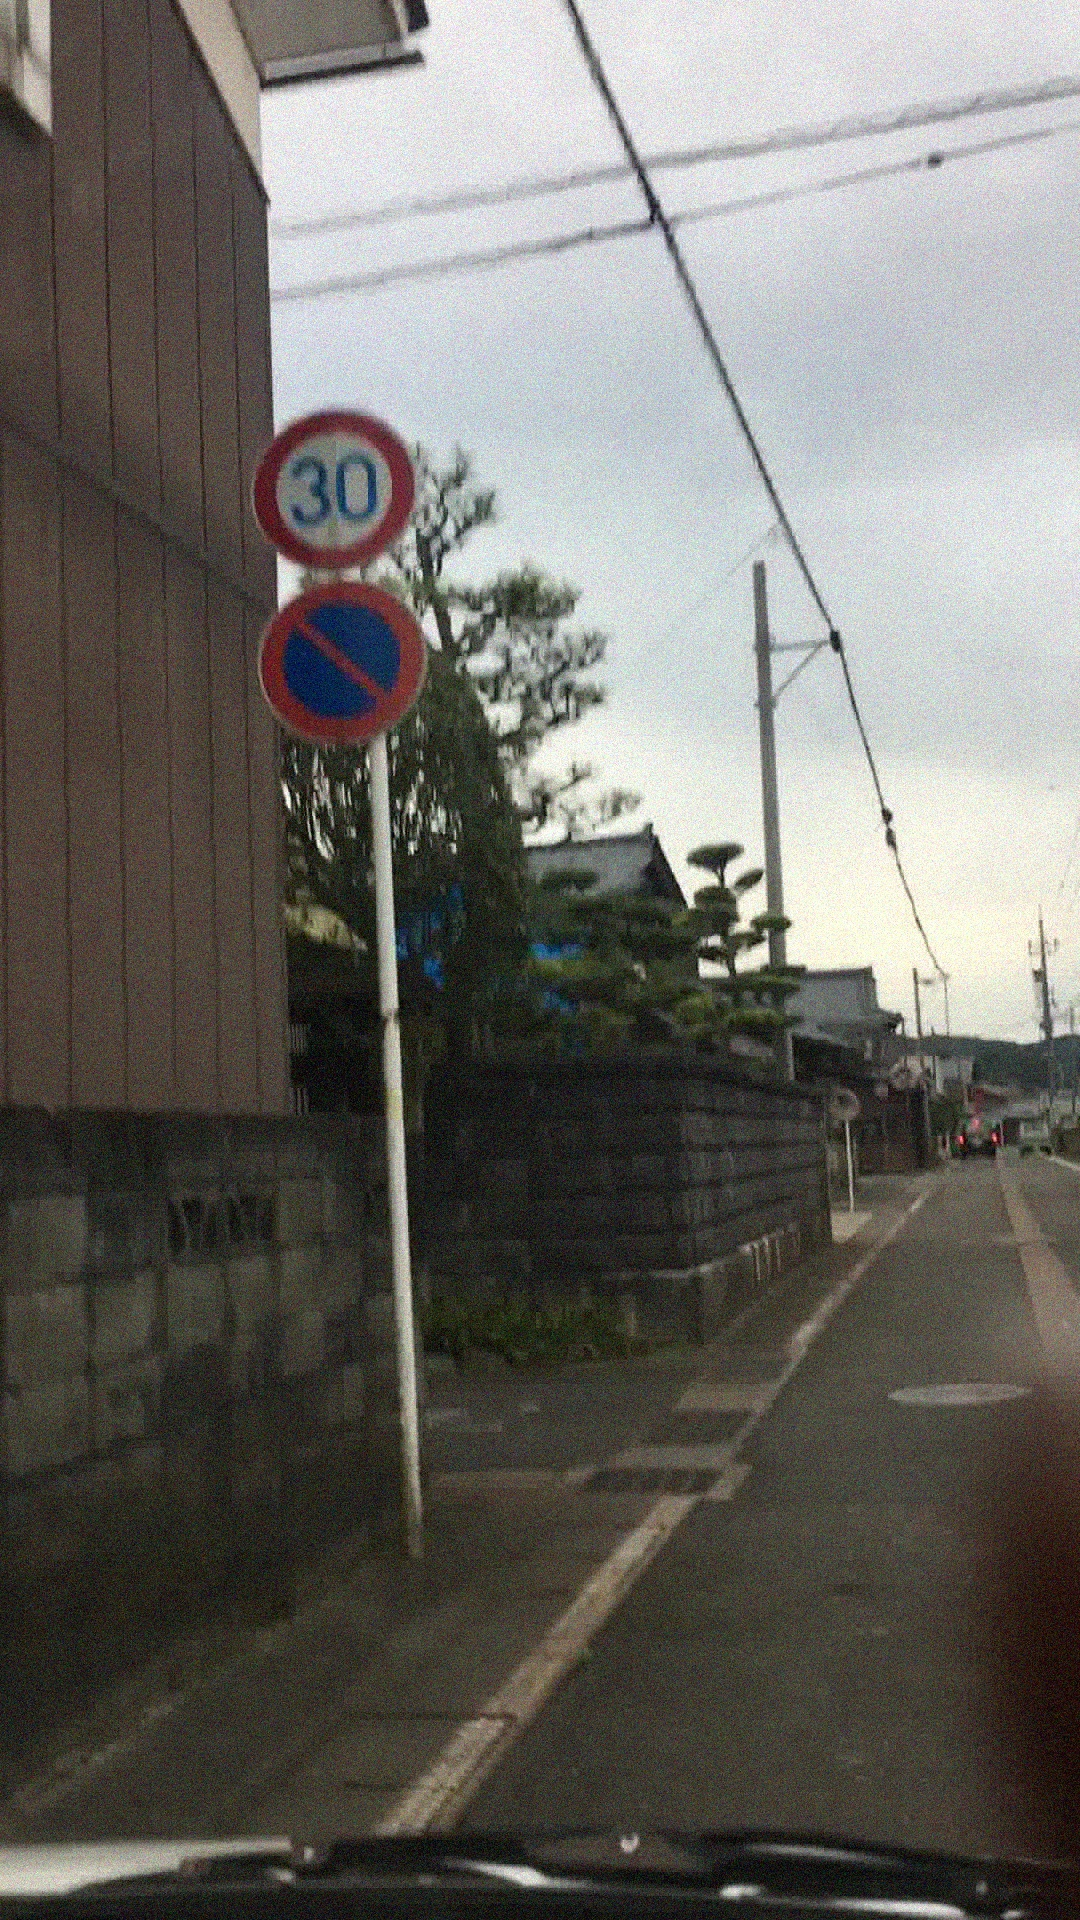Prohibition_sign: (252, 580, 419, 758)
Speed_sign: (247, 398, 429, 572)
